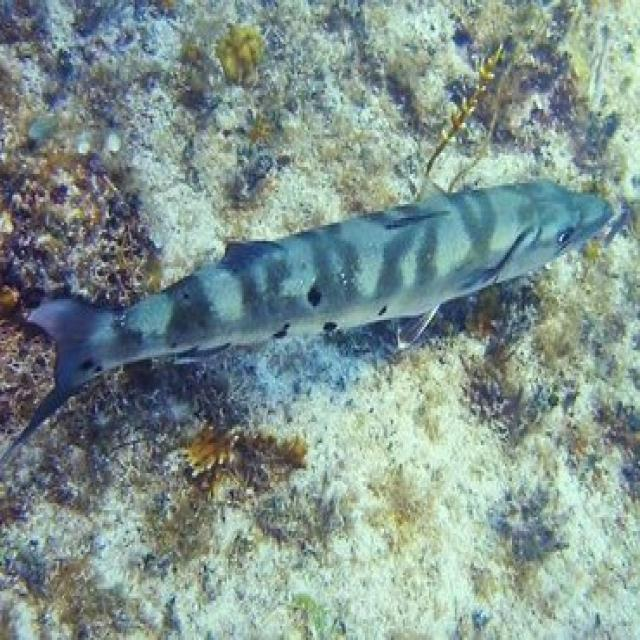Barracuda: (2, 174, 616, 478)
